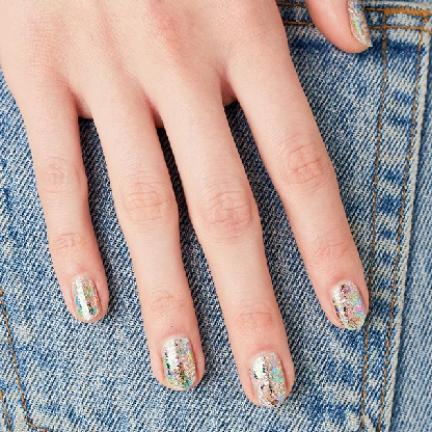Nail: (249, 351, 287, 407), (161, 337, 198, 391), (330, 280, 366, 331), (71, 275, 102, 320), (347, 1, 372, 46)
